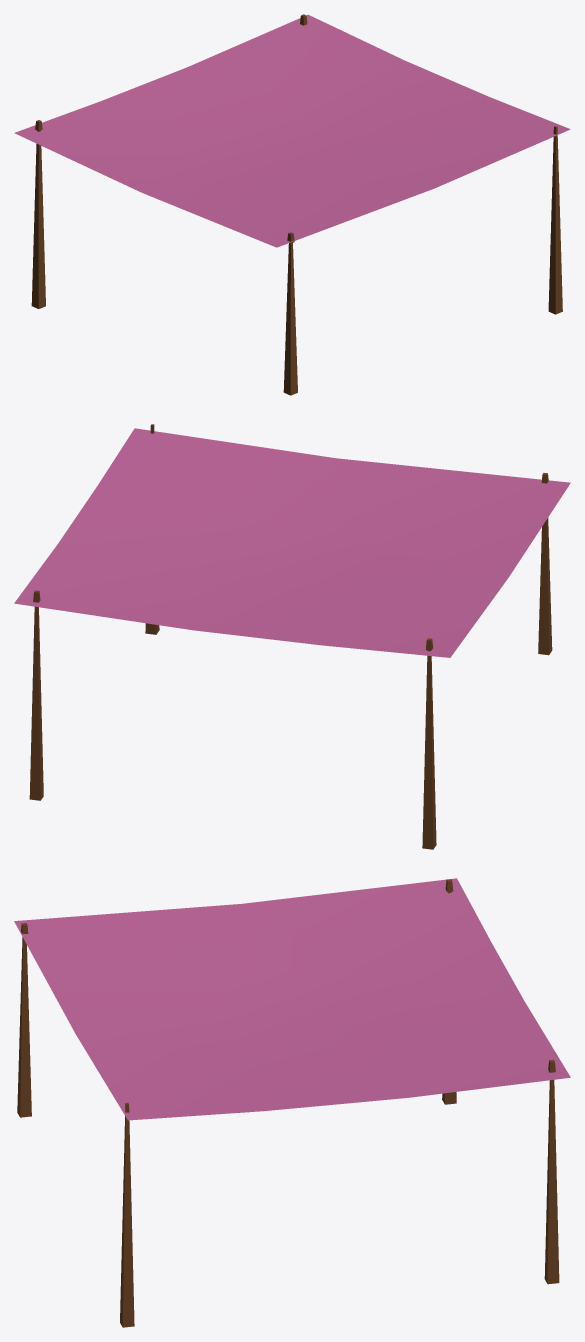
File: Shed_2.fbx
3 views of the same model, one above another, from view 1: azimuth 30°, elevation 25°; view 2: azimuth 150°, elevation 25°; view 3: azimuth 270°, elevation 25° (orthographic). The views are drawn at different scales.
Parts seen in each view (by area): view 1: Shed_2; view 2: Shed_2; view 3: Shed_2.
Boxes of the visible parts, x1,y1,x2,y2 form: Shed_2: (14, 14, 570, 395); Shed_2: (14, 424, 570, 849); Shed_2: (14, 878, 570, 1327).
Size of the model in its own units: 238 by 101 by 229.
